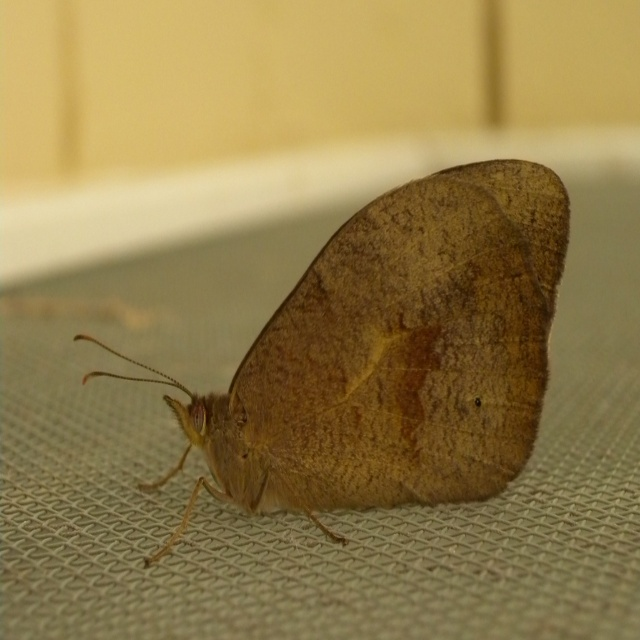Butterfly: (74, 158, 571, 564)
